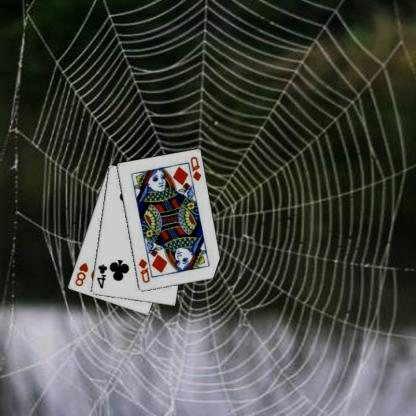4C: (96, 262, 110, 290)
8H: (74, 260, 91, 288)
QD: (189, 154, 204, 183), (138, 257, 152, 284)
